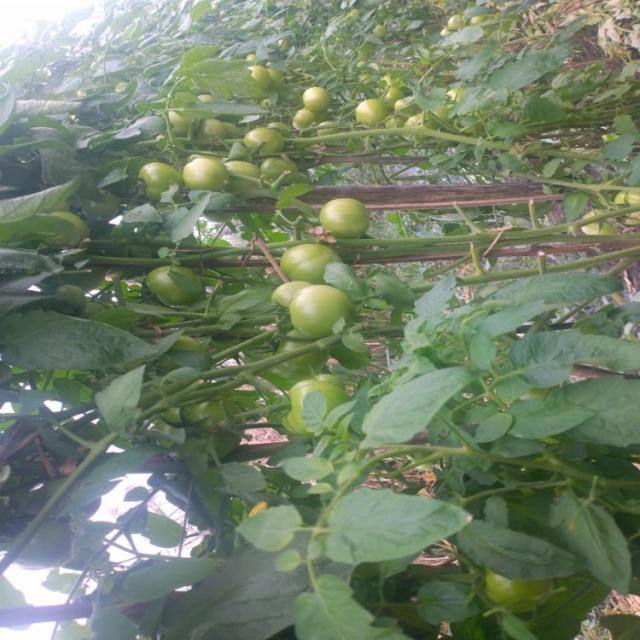tomato: (271, 282, 363, 341), (281, 370, 350, 442), (486, 562, 560, 615), (265, 237, 337, 279), (184, 147, 240, 196), (165, 392, 235, 431), (255, 149, 311, 191), (583, 203, 624, 258), (160, 96, 204, 144), (37, 276, 88, 317), (177, 116, 234, 151), (325, 191, 371, 232), (603, 183, 640, 233), (435, 79, 477, 121), (243, 55, 279, 103), (232, 155, 275, 192), (392, 82, 423, 129), (136, 152, 174, 190), (138, 256, 179, 288), (438, 4, 479, 35), (247, 125, 283, 159), (296, 80, 329, 117), (191, 87, 226, 118), (289, 106, 324, 133), (344, 98, 376, 120), (373, 20, 393, 40), (276, 41, 292, 53)
